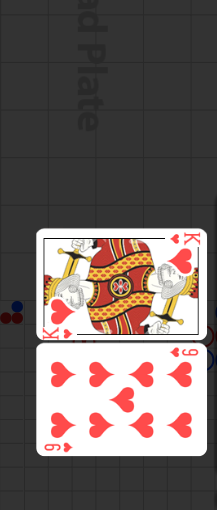9H: (43, 441, 75, 454)
KH: (169, 230, 202, 246)
